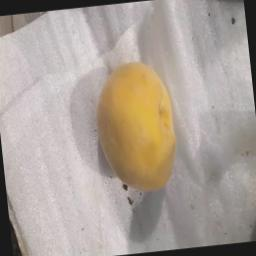Peach Unripe: (81, 54, 194, 206)
